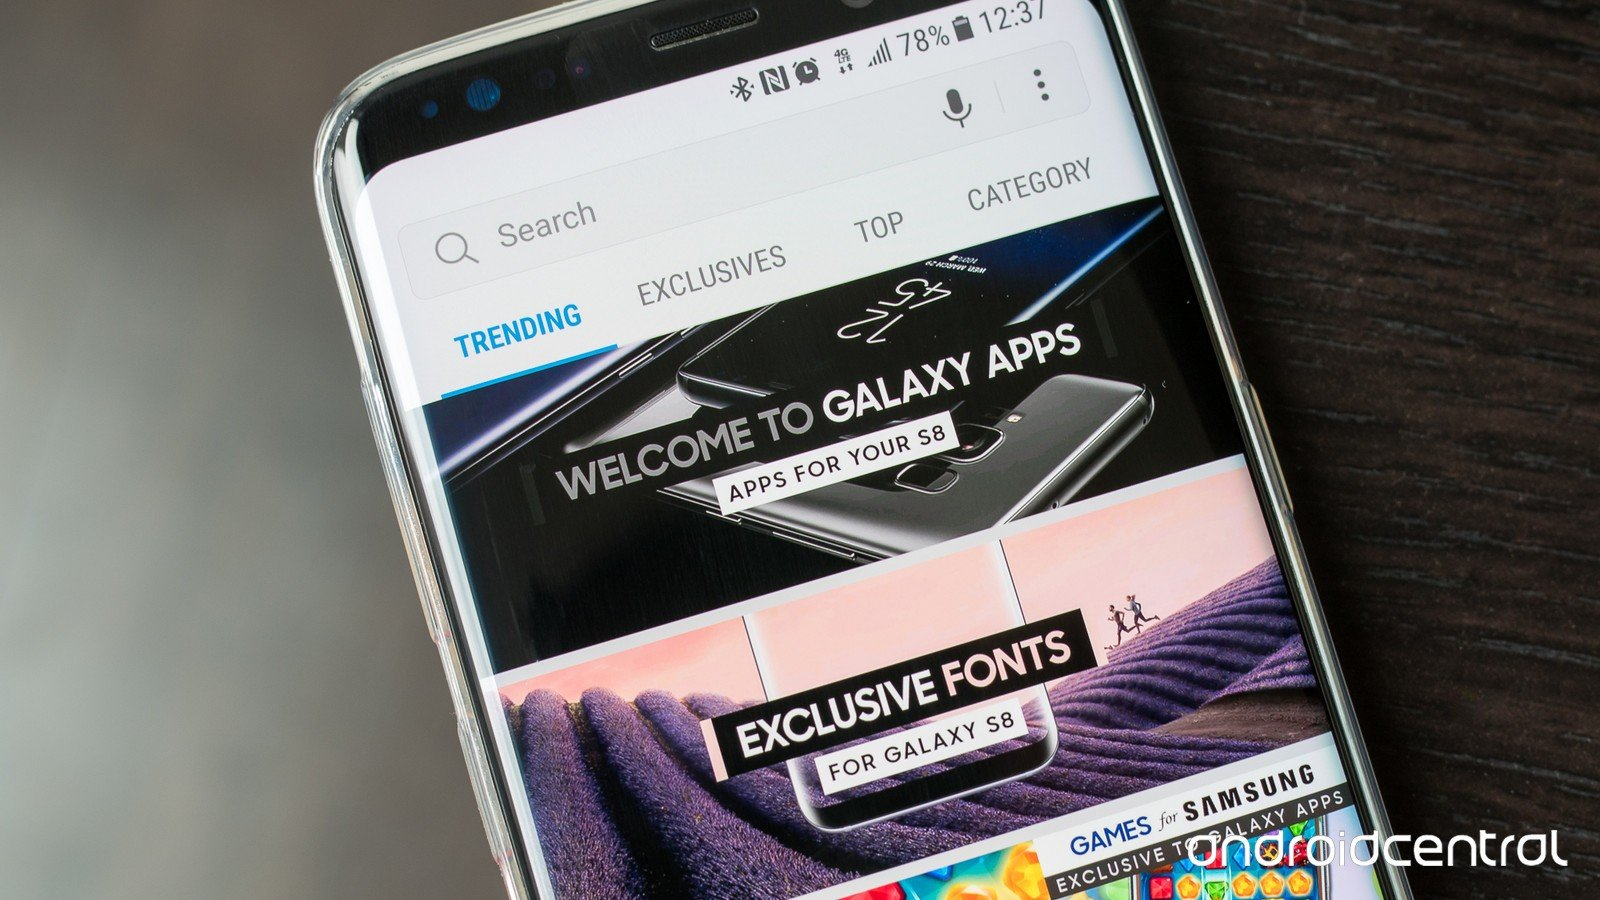Cell Phone: (311, 5, 1407, 891)
